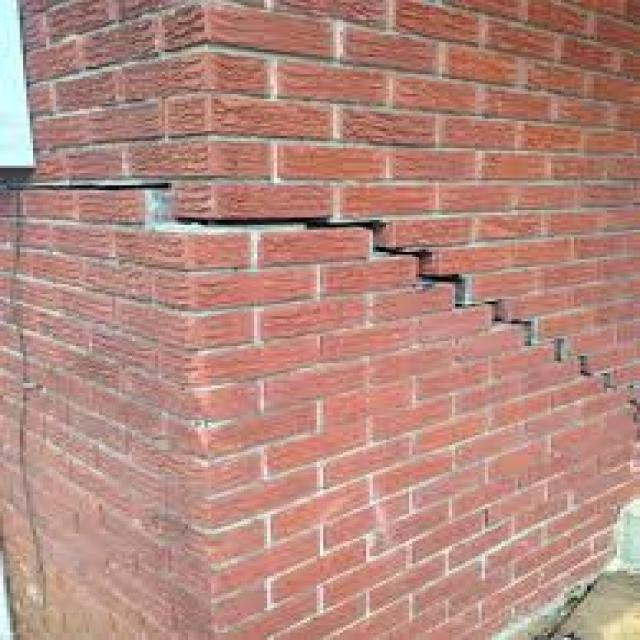Crack: (191, 205, 637, 442), (7, 176, 195, 242)
